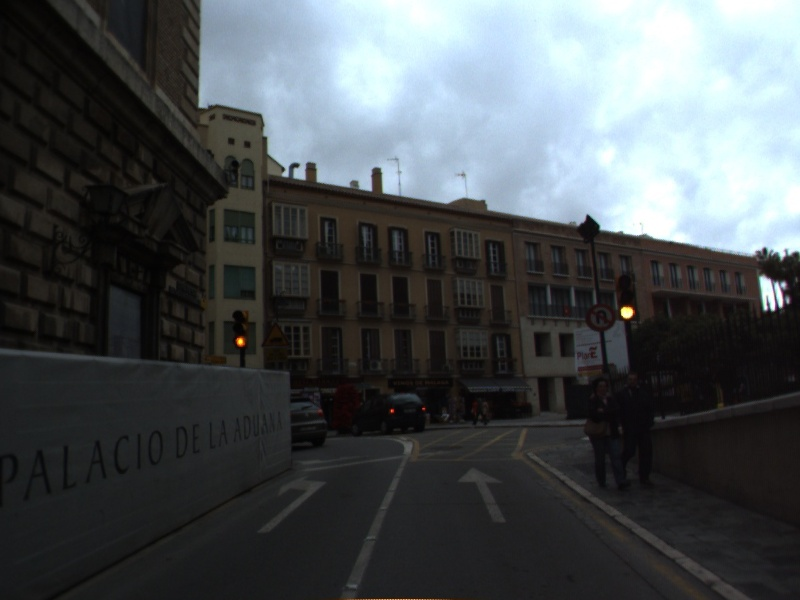LEFT: (253, 473, 330, 535)
STRAIGHT: (455, 464, 509, 525)
